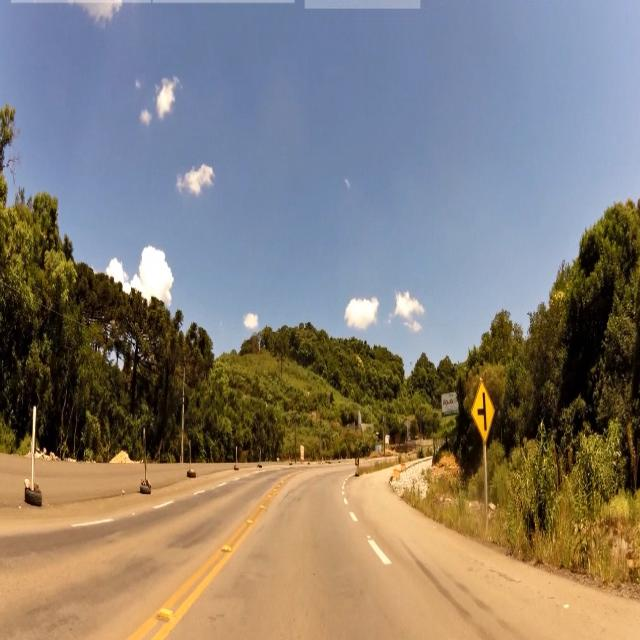A-7a: (466, 378, 500, 442)
